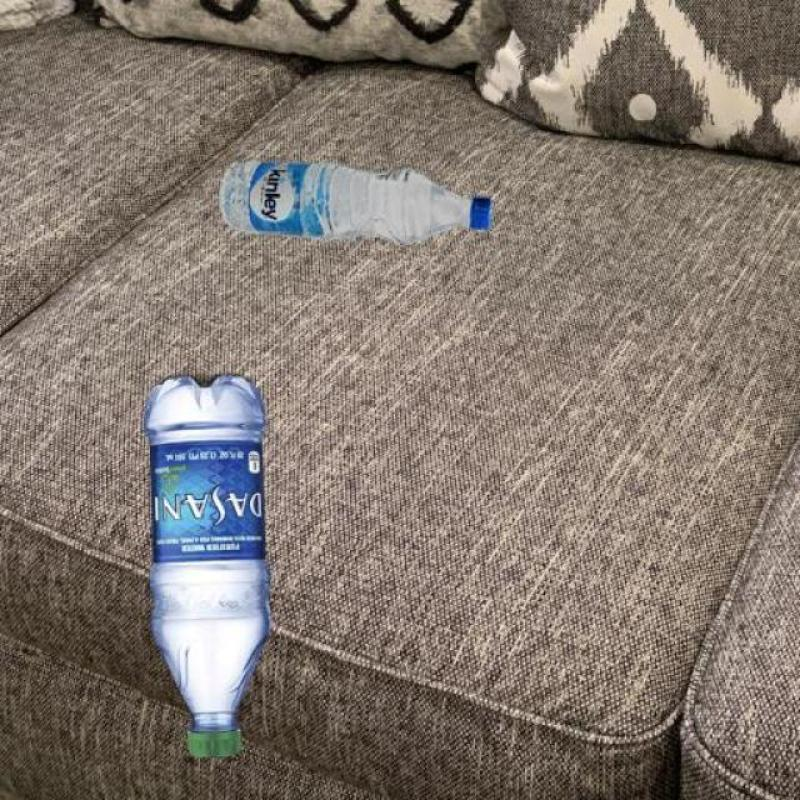botella: (144, 375, 274, 761), (214, 162, 494, 242)
